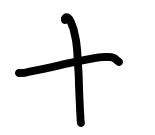plus: (15, 12, 123, 127)
